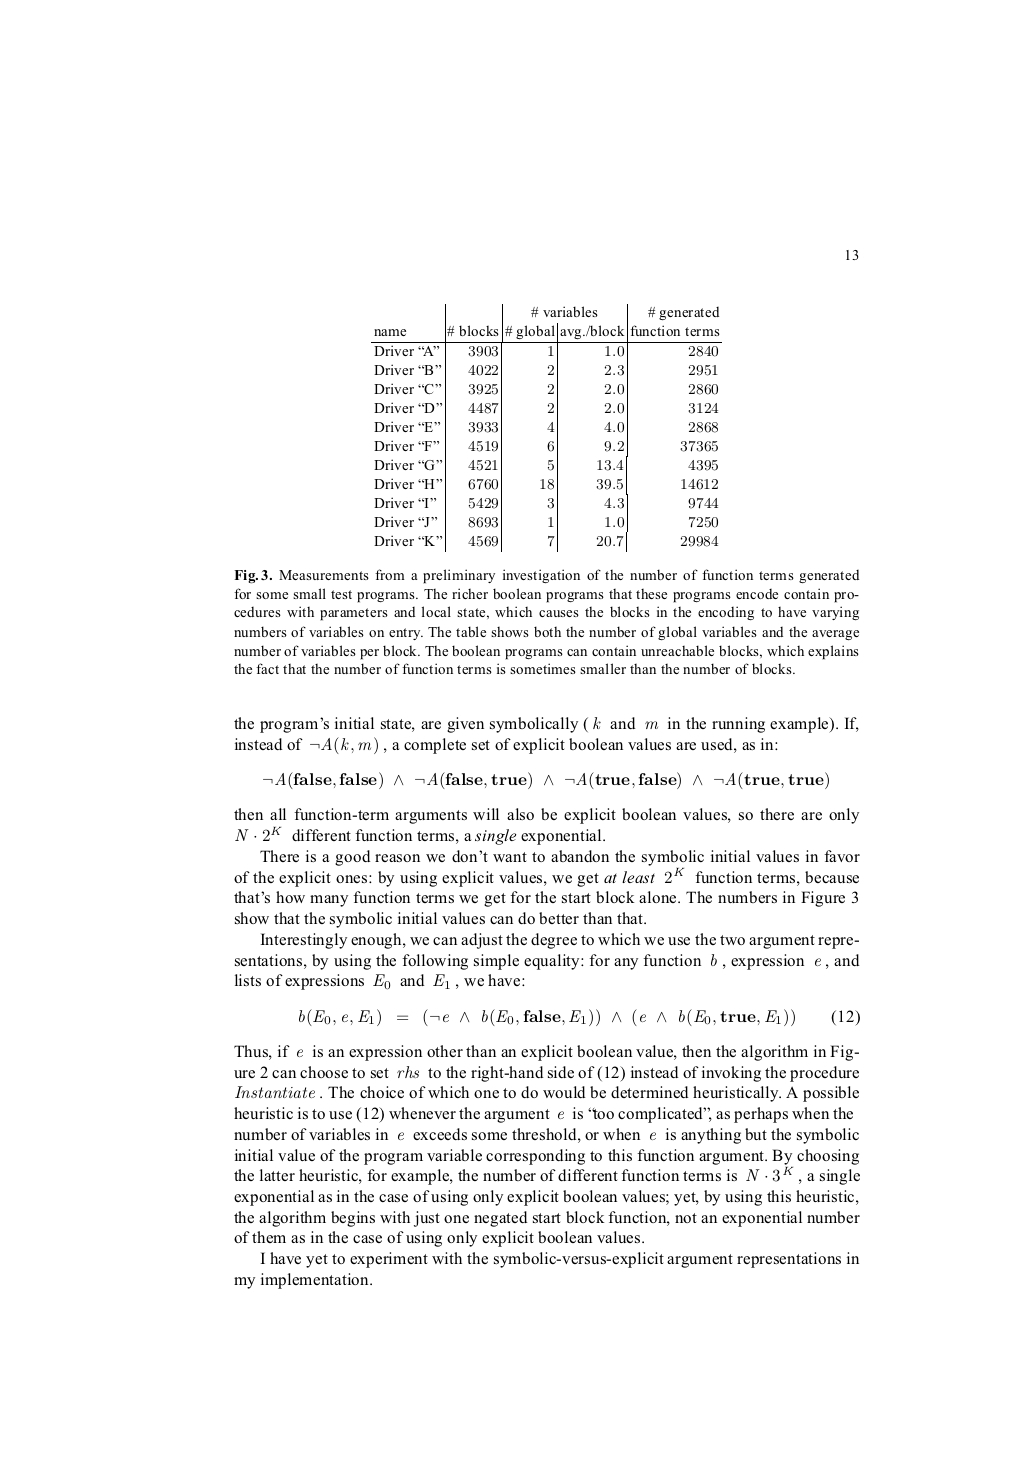Table: (370, 303, 721, 552)
formula: (263, 771, 828, 790), (299, 1008, 859, 1027)
